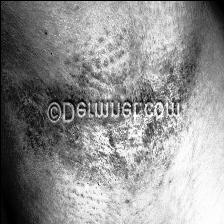Non-Cancerous Skin Condition: (64, 120, 170, 180)
